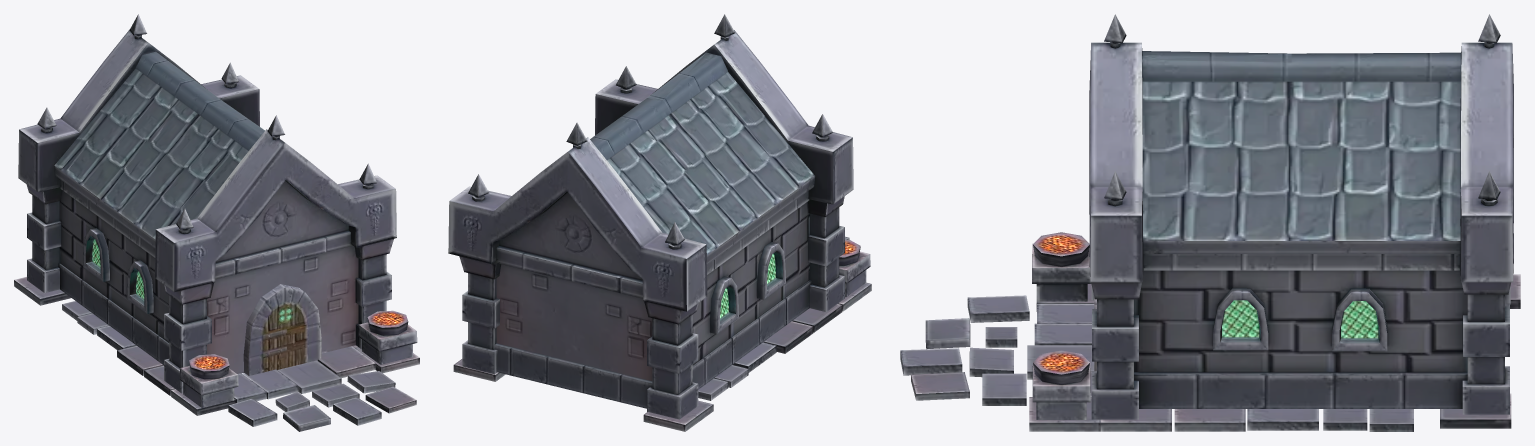
File: mausoleo.glb
3 views of the same model, side by side, from view 1: azimuth 30°, elevation 25°; view 2: azimuth 150°, elevation 25°; view 3: azimuth 270°, elevation 25° (orthographic). The views are drawn at different scales.
Parts seen in each view (by area): view 1: MAUS2:polySurface1; view 2: MAUS2:polySurface1; view 3: MAUS2:polySurface1.
Part boxes in pixels (x1,y1,x2,y2): MAUS2:polySurface1: (14, 14, 419, 431); MAUS2:polySurface1: (448, 14, 871, 431); MAUS2:polySurface1: (900, 14, 1520, 431).
Bounding box in the file's own units: 6.33 × 6.87 × 11.18.
1 material, 1 textured.
